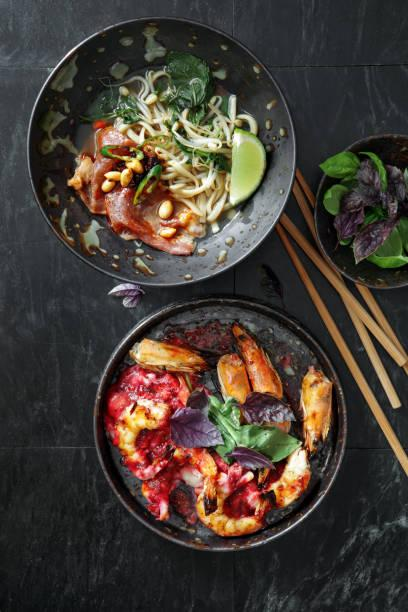Braised Crucian Carp: (27, 17, 294, 281), (90, 298, 344, 545)
